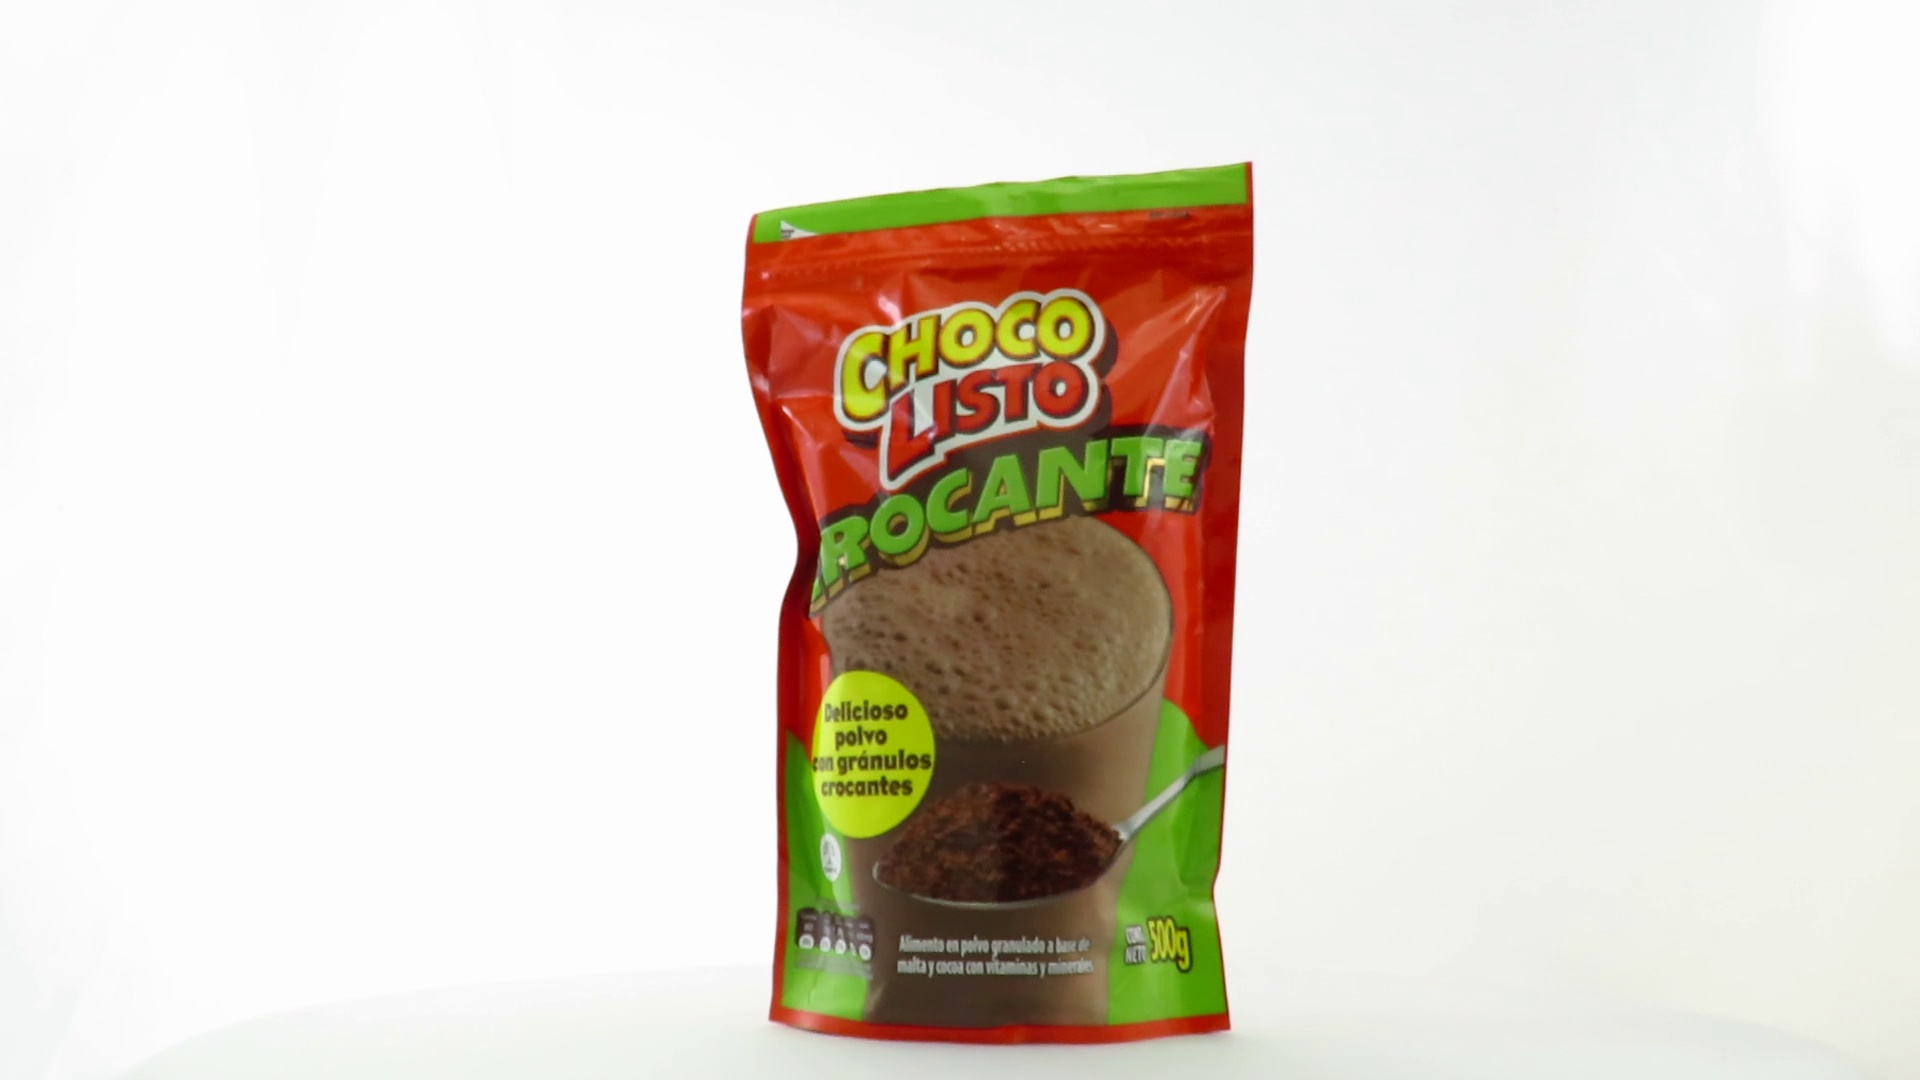COL0170102DYP50000: (735, 156, 1261, 1052)
